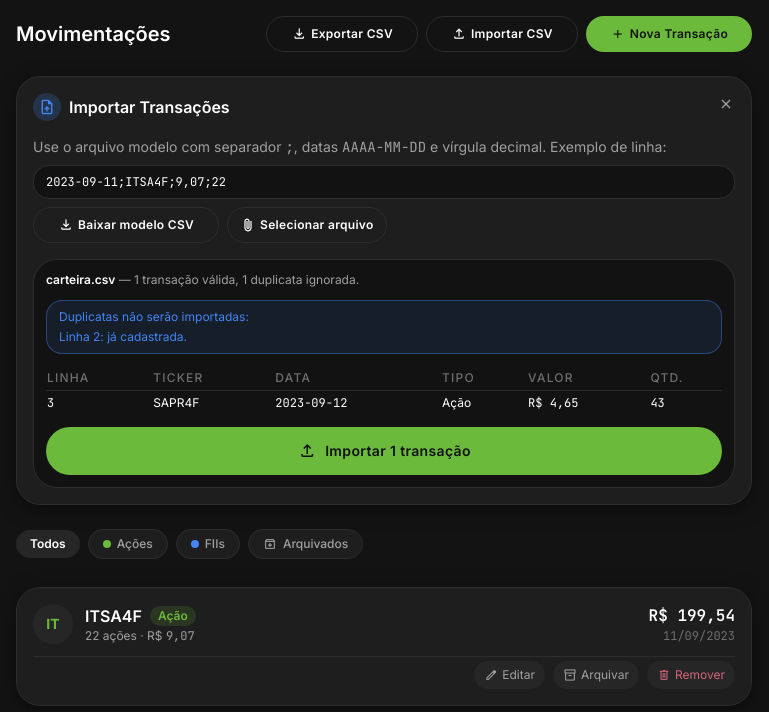
Test: Transactions — import CSV › pré-visualiza, ignora duplicada e importa só a linha nova
Earlier steps of the test are not shown.
Click the button "Importar 1 transação".
click(384, 451)  # box [46,427,722,475]
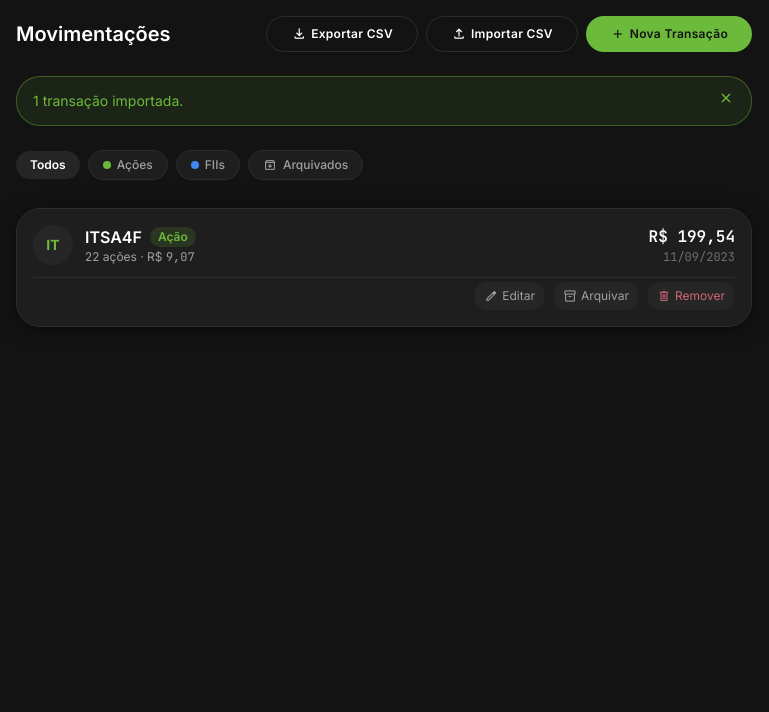
Now the text "1 transação importada" is shown, box [33,92,183,109]
